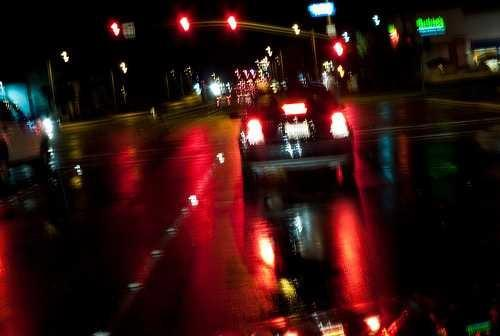red: (225, 12, 239, 34), (178, 14, 191, 36), (333, 38, 345, 60)
